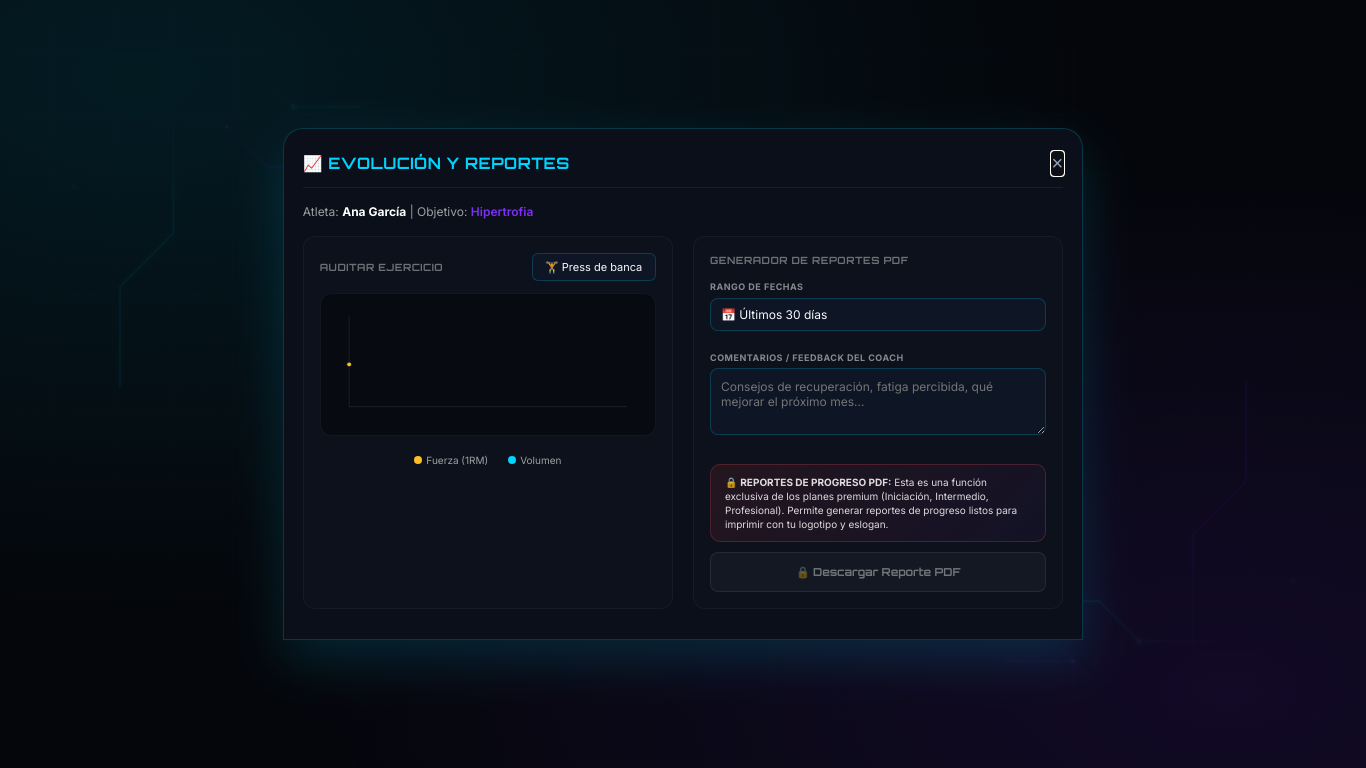
EvolutionModal — selector de rango de fechas para PDF › cambiar a "custom" → aparecen los dos inputs de fecha de rango personalizado
Step 1. Select "⚙️ Rango personalizado" in the dropdown below "RANGO DE FECHAS" → (878, 314), box x1=710 y1=298 x2=1046 y2=331
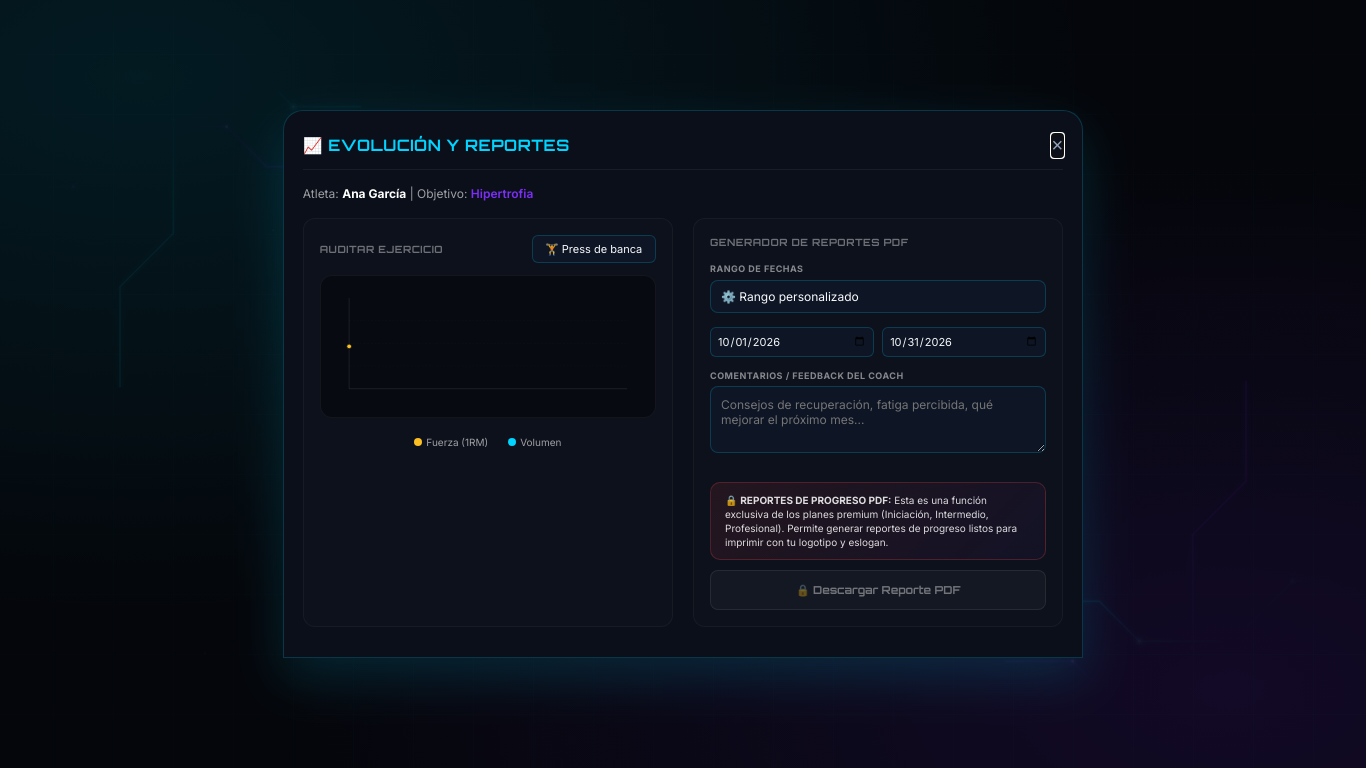
Check: the number of date fields is 2, box x1=710 y1=327 x2=874 y2=357; x1=882 y1=327 x2=1046 y2=357
